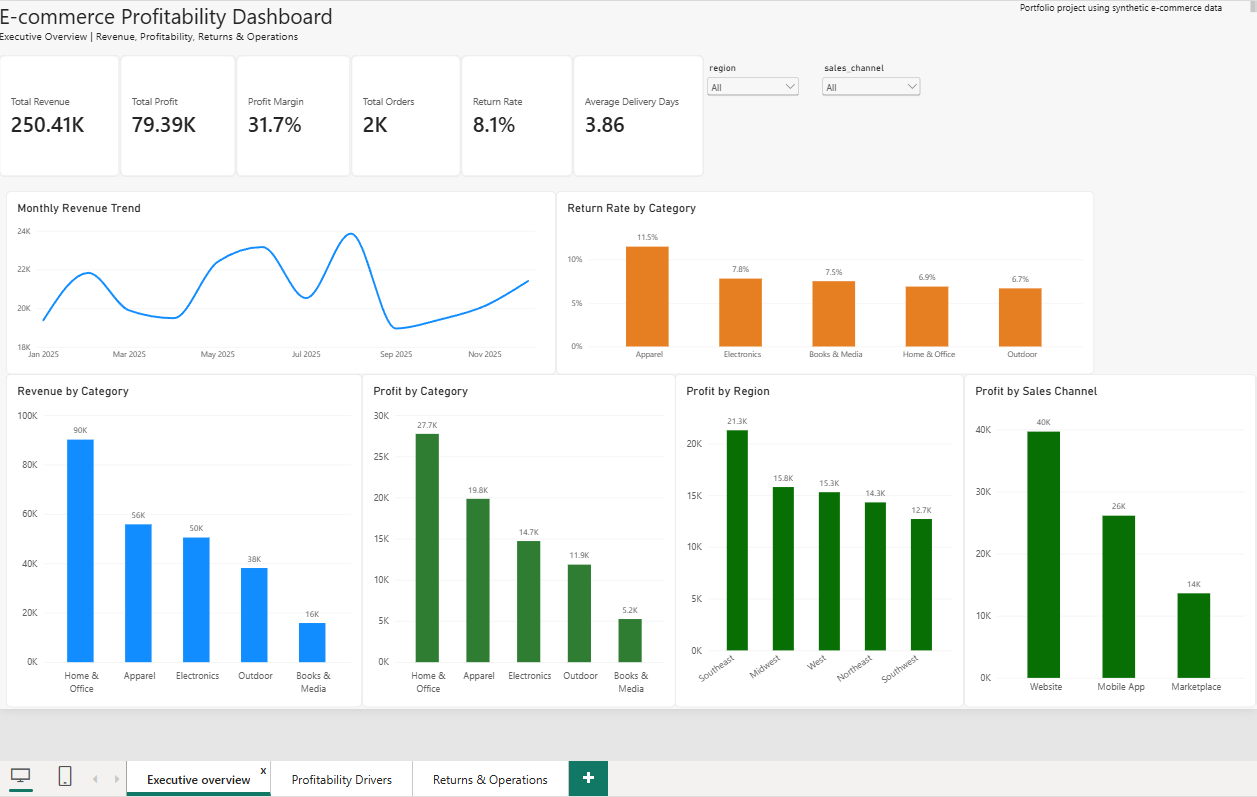

What the dashboard file says about the page in this screenshot:
{"tool":"powerbi","page":{"name":"Executive overview","canvas":[1920,1080],"ordinal":0},"visuals":[{"type":"cardVisual","fields":{"Data":["Ecommerce.Total Orders"]},"box":[537.7,82.5,168,186.3],"z":0},{"type":"cardVisual","fields":{"Data":["Ecommerce.Total Revenue"]},"box":[0,82.5,184.8,186.3],"z":1000},{"type":"cardVisual","fields":{"Data":["Ecommerce.Total Profit"]},"box":[184.8,82.5,177.2,186.3],"z":2000},{"type":"cardVisual","fields":{"Data":["Ecommerce.Return Rate"]},"box":[705.7,82.5,171.1,186.3],"z":4000},{"type":"cardVisual","fields":{"Data":["Ecommerce.Profit Margin"]},"box":[362,82.5,175.7,186.3],"z":5000},{"type":"cardVisual","fields":{"Data":["Ecommerce.Average Delivery Days"]},"box":[876.8,82.5,200.1,186.3],"z":7000},{"type":"clusteredColumnChart","title":"Revenue by Category","fields":{"Category":["Ecommerce.category"],"Y":["Ecommerce.Total Revenue"]},"box":[10.2,570.5,544.2,509.2],"z":9000},{"type":"clusteredColumnChart","title":"Profit by Category","fields":{"Category":["Ecommerce.category"],"Y":["Ecommerce.Total Profit"]},"box":[554.4,570.5,478.5,509.2],"z":10000},{"type":"clusteredColumnChart","title":"Profit by Region","fields":{"Category":["Ecommerce.region"],"Y":["Ecommerce.Total Profit"]},"box":[1032.9,570.5,440.6,509.2],"z":11000},{"type":"lineChart","title":"Monthly Revenue Trend","fields":{"Category":["Ecommerce.order_date.Variation.Date Hierarchy.Year","Ecommerce.order_date.Variation.Date Hierarchy.Quarter","Ecommerce.order_date.Variation.Date Hierarchy.Month"],"Y":["Ecommerce.Total Revenue"]},"box":[10.7,290.2,840.4,280.1],"z":12000},{"type":"clusteredColumnChart","title":"Profit by Sales Channel","fields":{"Category":["Ecommerce.sales_channel"],"Y":["Ecommerce.Total Profit"]},"box":[1473.6,570.5,446.4,509.2],"z":13000},{"type":"clusteredColumnChart","title":"Return Rate by Category","fields":{"Category":["Ecommerce.category"],"Y":["Ecommerce.Return Rate"]},"box":[850.8,290.2,821.8,279.5],"z":14000},{"type":"textbox","box":[0,0,569.7,82.5],"z":14001},{"type":"slicer","fields":{"Values":["Ecommerce.region"]},"box":[1076.8,93.2,149.7,93.2],"z":14002},{"type":"slicer","fields":{"Values":["Ecommerce.sales_channel"]},"box":[1252.5,93.2,160.4,93.2],"z":14003},{"type":"textbox","box":[1559.5,0,360.5,22.9],"z":14004}]}

Visuals, with their boxes on the page's 1920x1080 design canvas (x1, y1, x2, y2). These are canvas units, not pixel positions in the 1257x797 screenshot, which may show the page scaled, cropped or inside an application window:
cardVisual - Ecommerce.Total Orders: left=538, top=82, right=706, bottom=269
cardVisual - Ecommerce.Total Revenue: left=0, top=82, right=185, bottom=269
cardVisual - Ecommerce.Total Profit: left=185, top=82, right=362, bottom=269
cardVisual - Ecommerce.Return Rate: left=706, top=82, right=877, bottom=269
cardVisual - Ecommerce.Profit Margin: left=362, top=82, right=538, bottom=269
cardVisual - Ecommerce.Average Delivery Days: left=877, top=82, right=1077, bottom=269
"Revenue by Category" clusteredColumnChart: left=10, top=570, right=554, bottom=1080
"Profit by Category" clusteredColumnChart: left=554, top=570, right=1033, bottom=1080
"Profit by Region" clusteredColumnChart: left=1033, top=570, right=1474, bottom=1080
"Monthly Revenue Trend" lineChart: left=11, top=290, right=851, bottom=570
"Profit by Sales Channel" clusteredColumnChart: left=1474, top=570, right=1920, bottom=1080
"Return Rate by Category" clusteredColumnChart: left=851, top=290, right=1673, bottom=570
textbox: left=0, top=0, right=570, bottom=82
slicer - Ecommerce.region: left=1077, top=93, right=1226, bottom=186
slicer - Ecommerce.sales_channel: left=1252, top=93, right=1413, bottom=186
textbox: left=1560, top=0, right=1920, bottom=23
